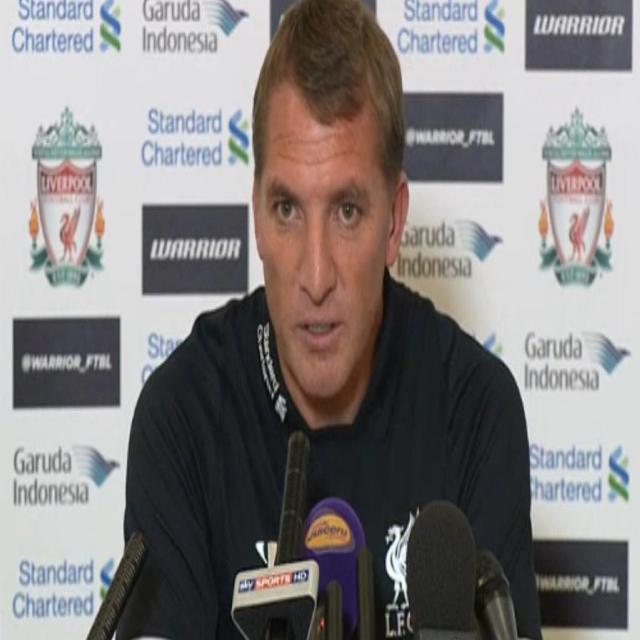Face: (244, 92, 401, 401)
